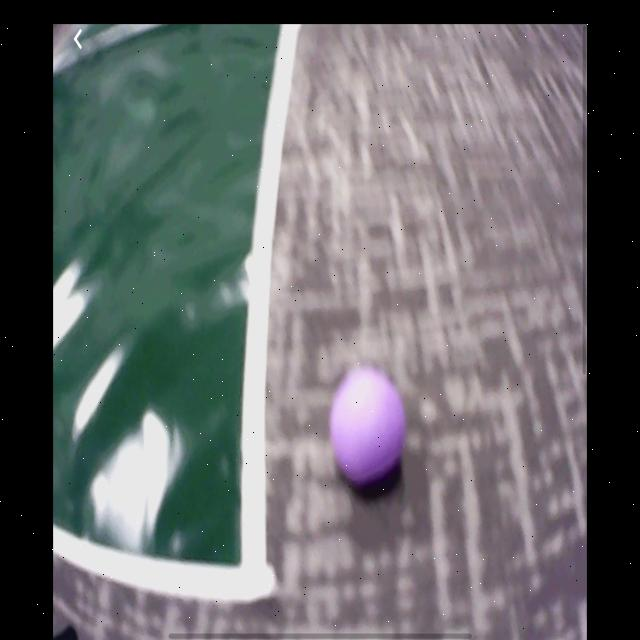ball: (332, 368, 406, 481)
